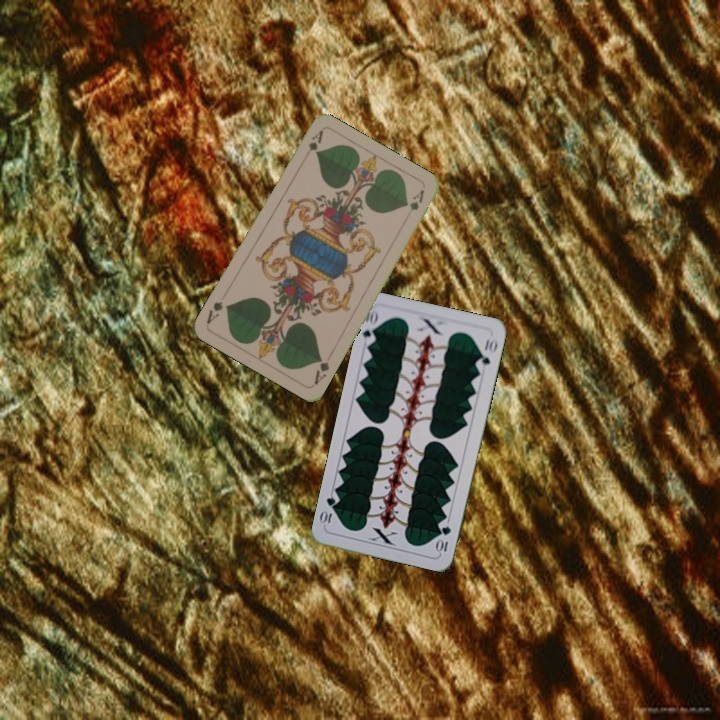G10: (358, 306, 381, 347), (433, 522, 454, 556)
GA: (310, 349, 334, 387), (304, 126, 326, 154)
